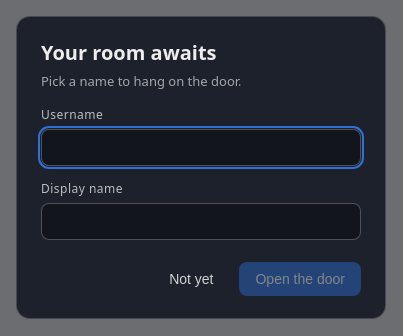
it: the door stays shut until both names are filled in
expect the button "Open the door" is disabled: met, box [240,262,361,296]
Type "b1ngster" into the field labelled "Username" at (201, 147), box [41,128,361,166]
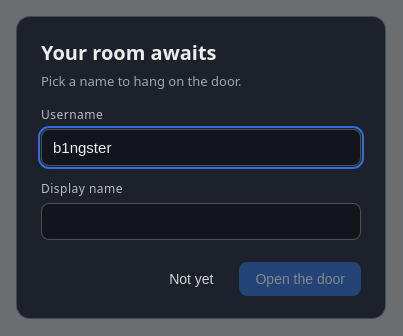
expect the button "Open the door" is disabled: met, box [240,262,361,296]
Type "Bing" into the field labelled "Display name" at (201, 221), box [41,202,361,240]
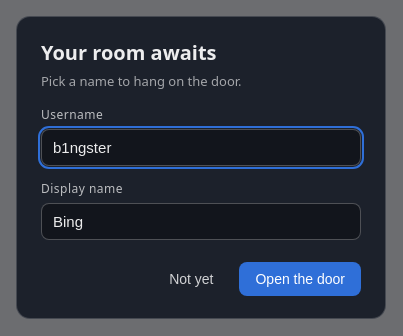
expect the button "Open the door" is enabled: met, box [240,262,361,296]
